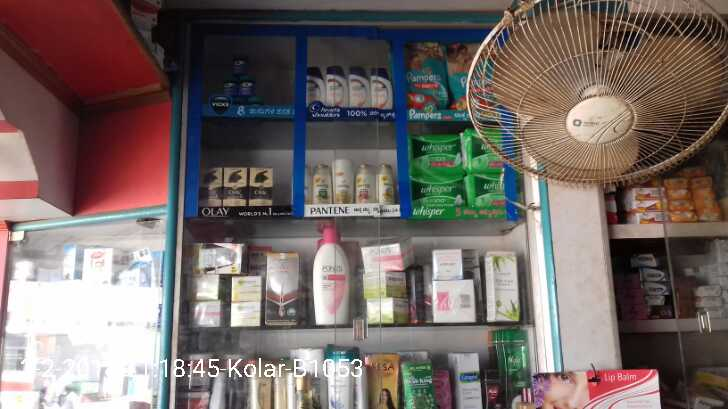beauty: (245, 168, 275, 208), (221, 165, 248, 209), (324, 63, 347, 113), (303, 63, 328, 107), (371, 65, 395, 110), (356, 161, 378, 205), (345, 68, 371, 104), (332, 157, 351, 204), (312, 164, 332, 208), (201, 166, 221, 207), (377, 163, 392, 202)
pharmacy: (410, 45, 452, 115), (411, 133, 465, 172), (411, 174, 466, 208), (465, 172, 503, 210), (232, 51, 246, 75), (220, 79, 235, 97), (237, 79, 251, 95)
